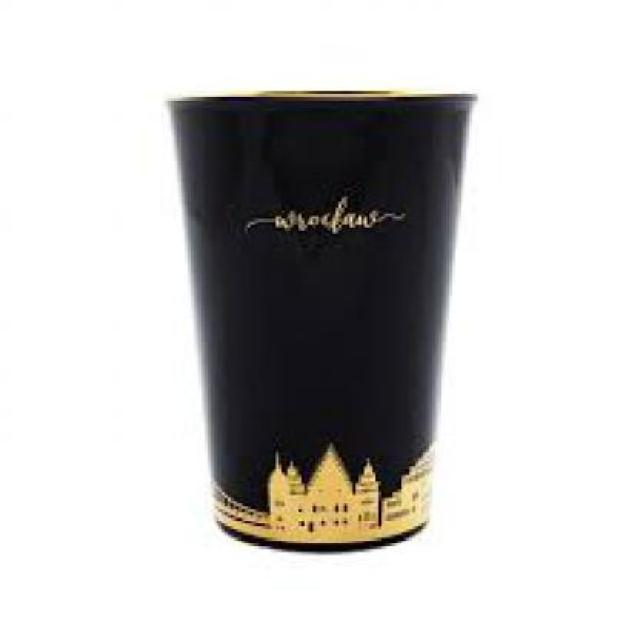cup: (160, 86, 485, 555)
